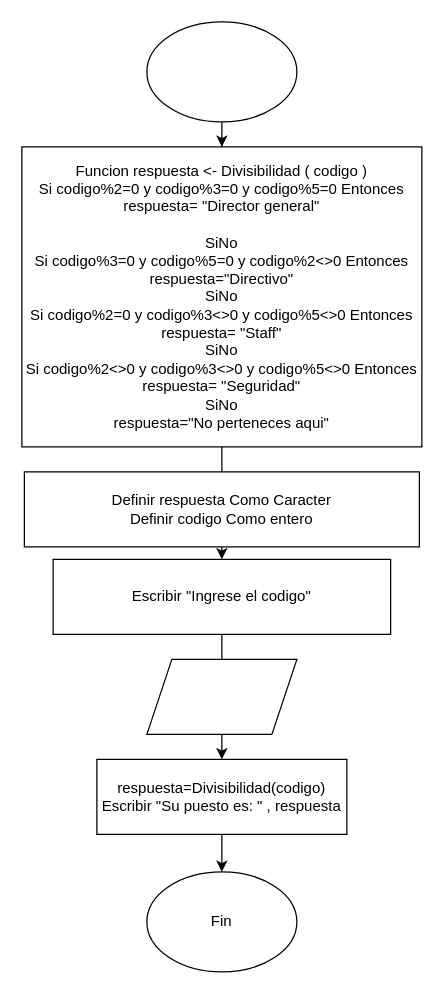
Image size: 444x994. Some labels were removed from this diagram. The shapes that lost their labels are listed below. From the top down, each one's box as (x1, y1, x2, y2) in pixels, then its label:
(146, 21, 297, 122): Inicio
(146, 658, 297, 734): codigo
